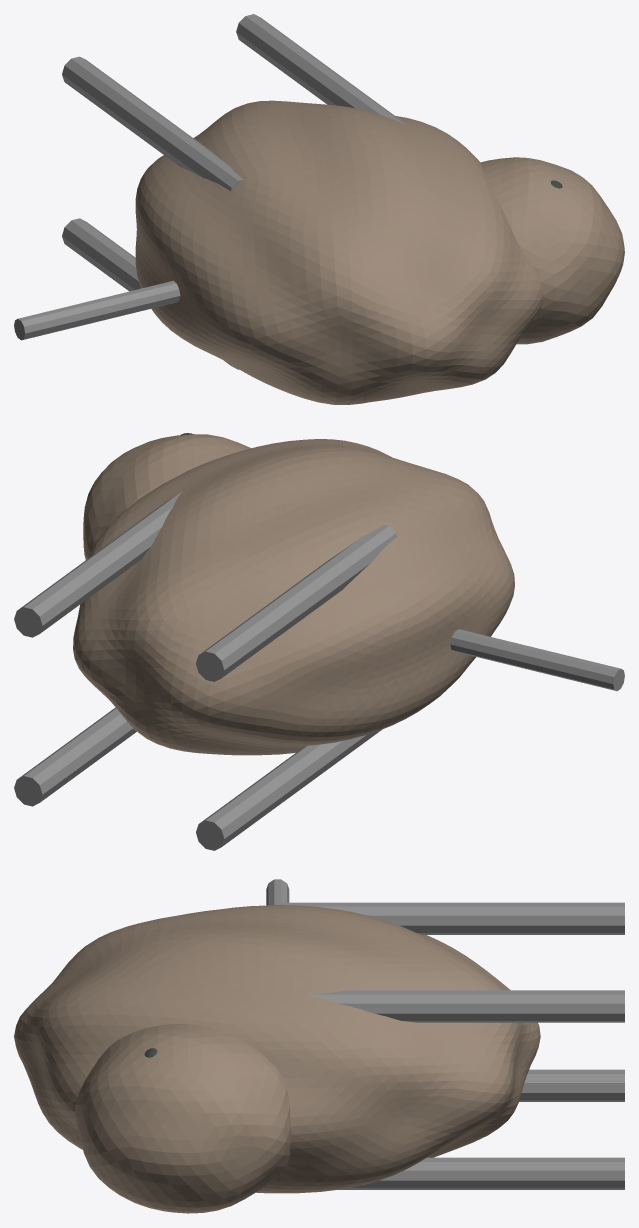
The model's file is Bana_Canopy_Primate.glb.
3 views of the same model, one above another, from view 1: azimuth 30°, elevation 25°; view 2: azimuth 150°, elevation 25°; view 3: azimuth 270°, elevation 25° (orthographic). The views are drawn at different scales.
Visible parts, largest first — view 1: world; view 2: world; view 3: world.
Part boxes in pixels (x1=…): world: x1=14, y1=14, x2=624, y2=404; world: x1=14, y1=433, x2=624, y2=850; world: x1=14, y1=879, x2=624, y2=1213.
Bounding box in the file's own units: 2.8 × 1.12 × 2.62.
